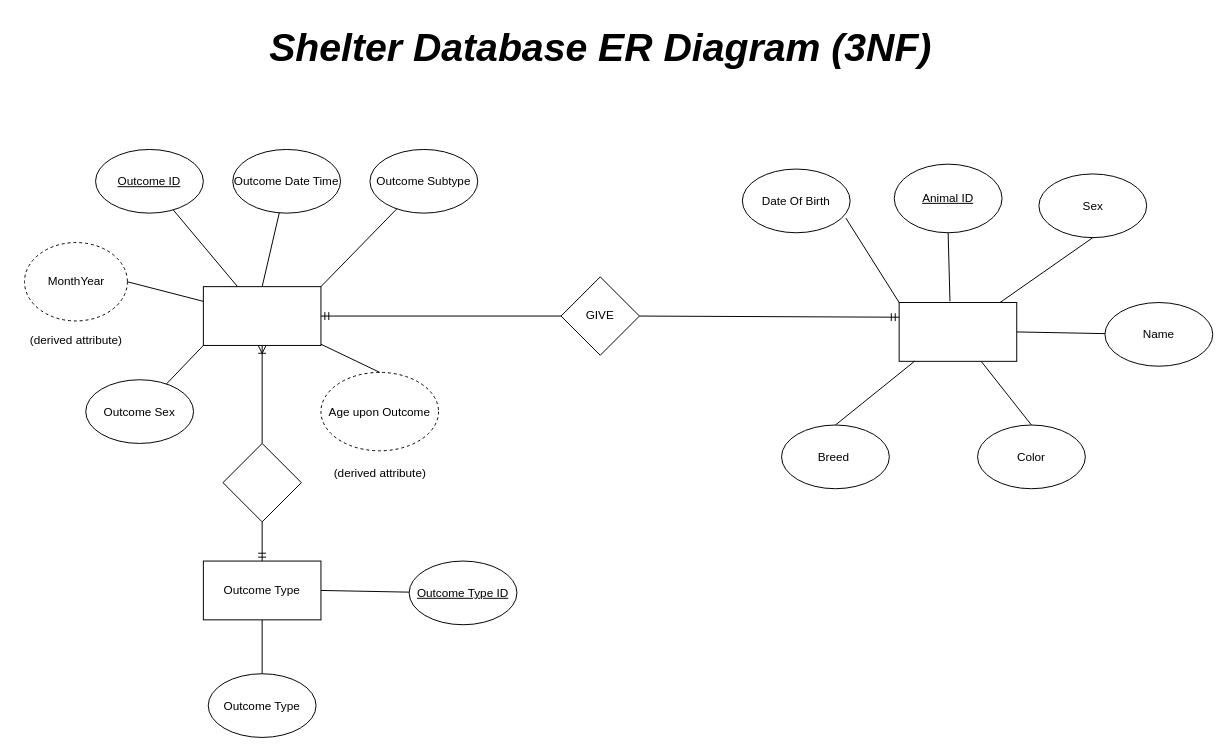
Some shapes in this 1230 by 755 pixel diagram are drawn without their labels. Each missing label, with the centre of its shape:
Animal: point (957, 331)
HAVE: point (261, 482)
Ourtcome Event: point (261, 315)
